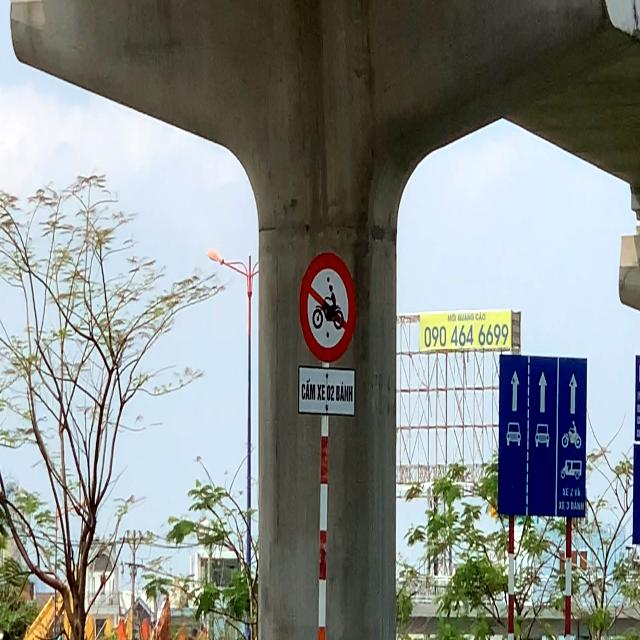P.104: (297, 248, 358, 364)
